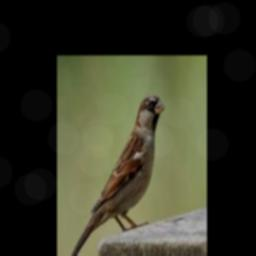Sparrow: (69, 96, 165, 256)
